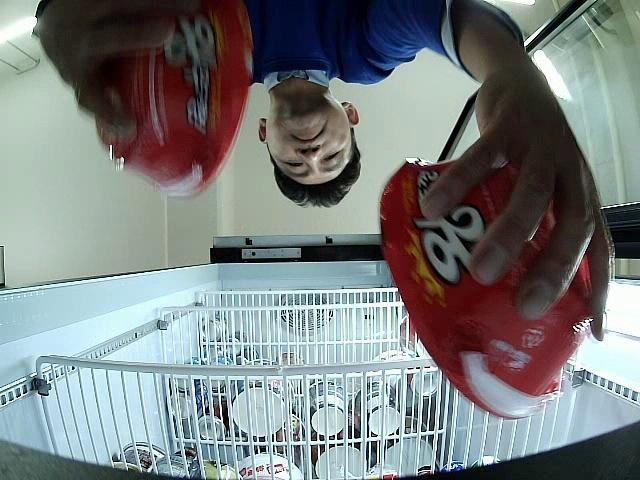10_wangTtukkeong: (380, 156, 592, 420), (96, 0, 253, 198)
